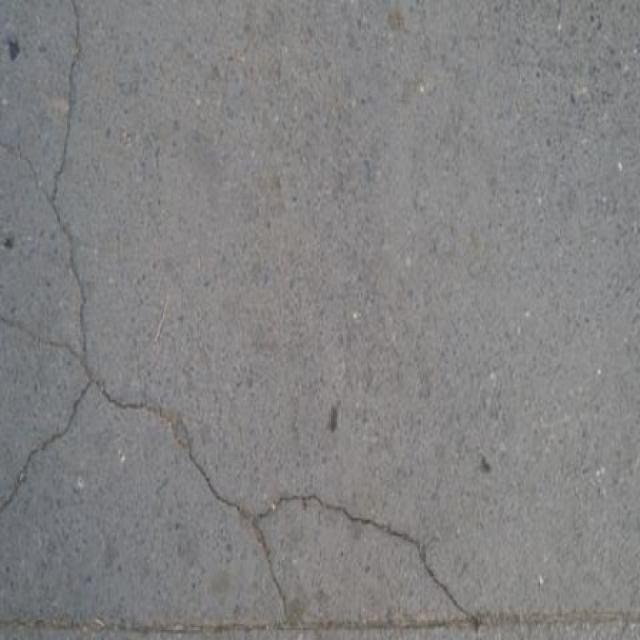Diagonal Crack: (0, 3, 637, 640), (270, 511, 447, 615)
